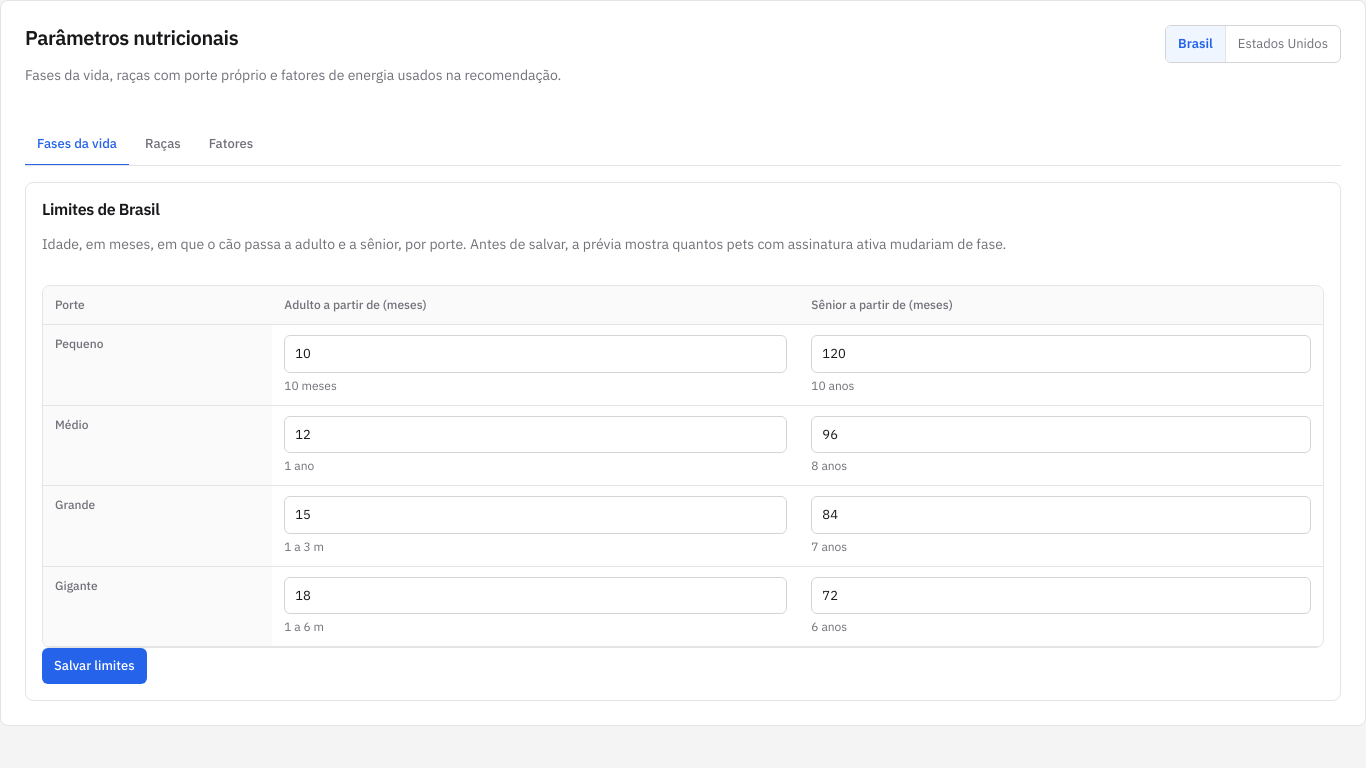
Scenario: NutritionSettingsPage › Invalid limits: marks the field the API lists
Replace the text in the number field named "Pequeno: sênior a partir de" with "100" at (1061, 354), box [811, 335, 1311, 373]
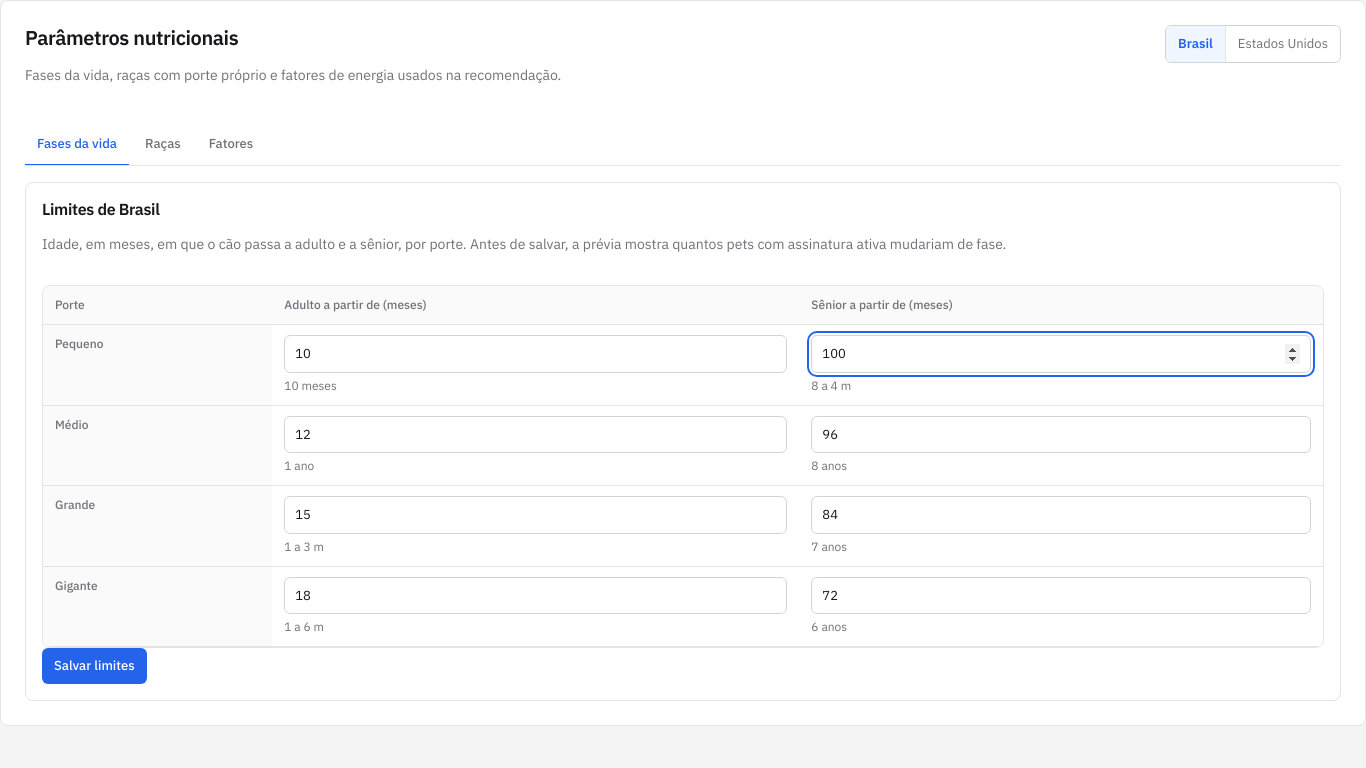
Replace the text in the number field named "Pequeno: adulto a partir de" with "120" at (536, 354), box [284, 335, 787, 373]
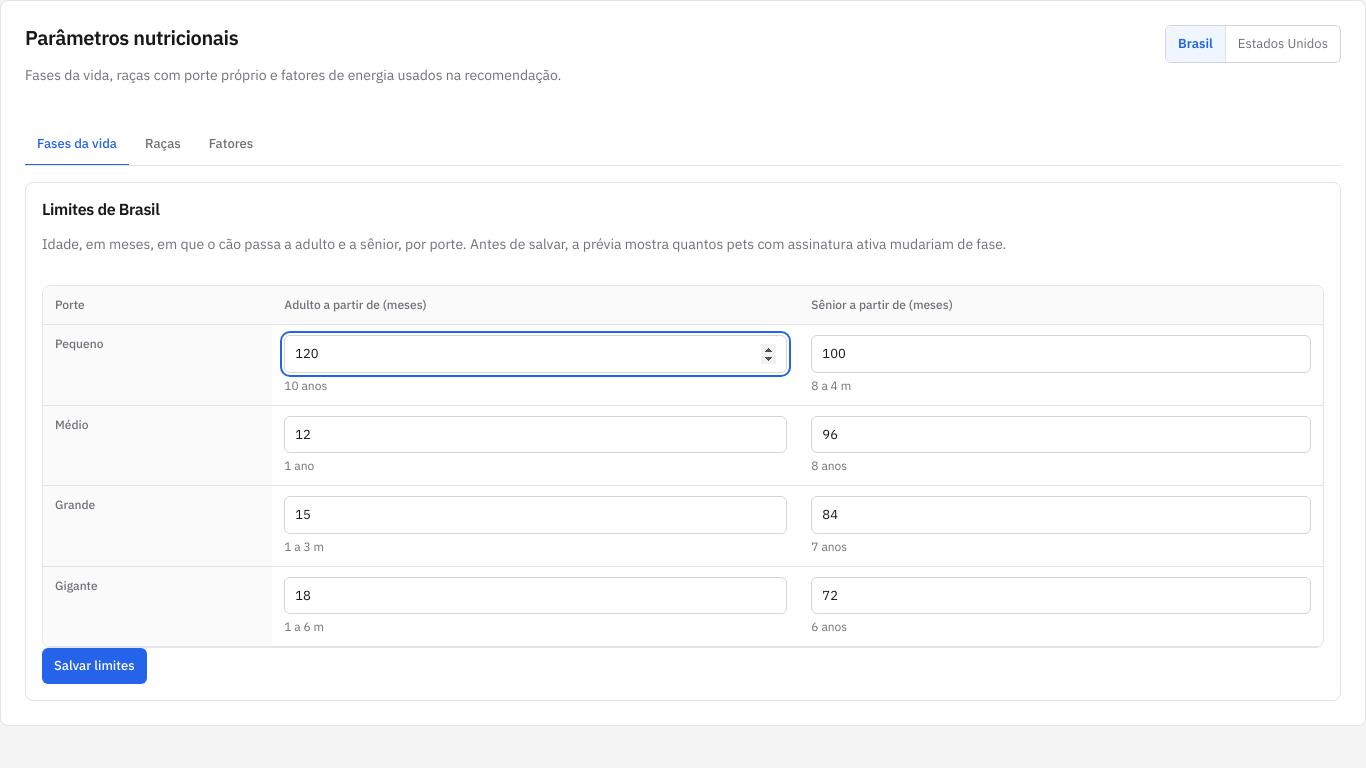
Click the button "Salvar limites" at (94, 666), box [42, 648, 147, 684]
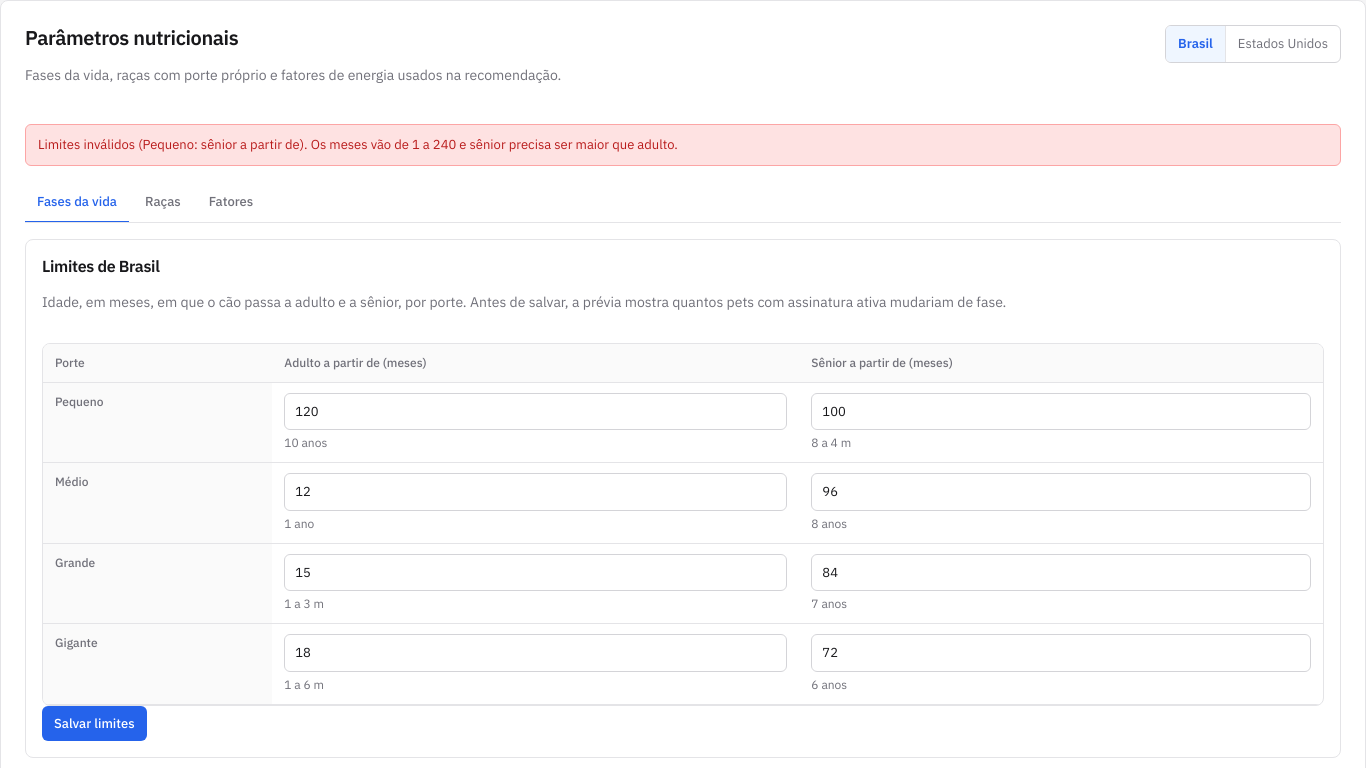
expect the message shows "Pequeno: sênior a partir de": met, box [38, 136, 678, 153]
